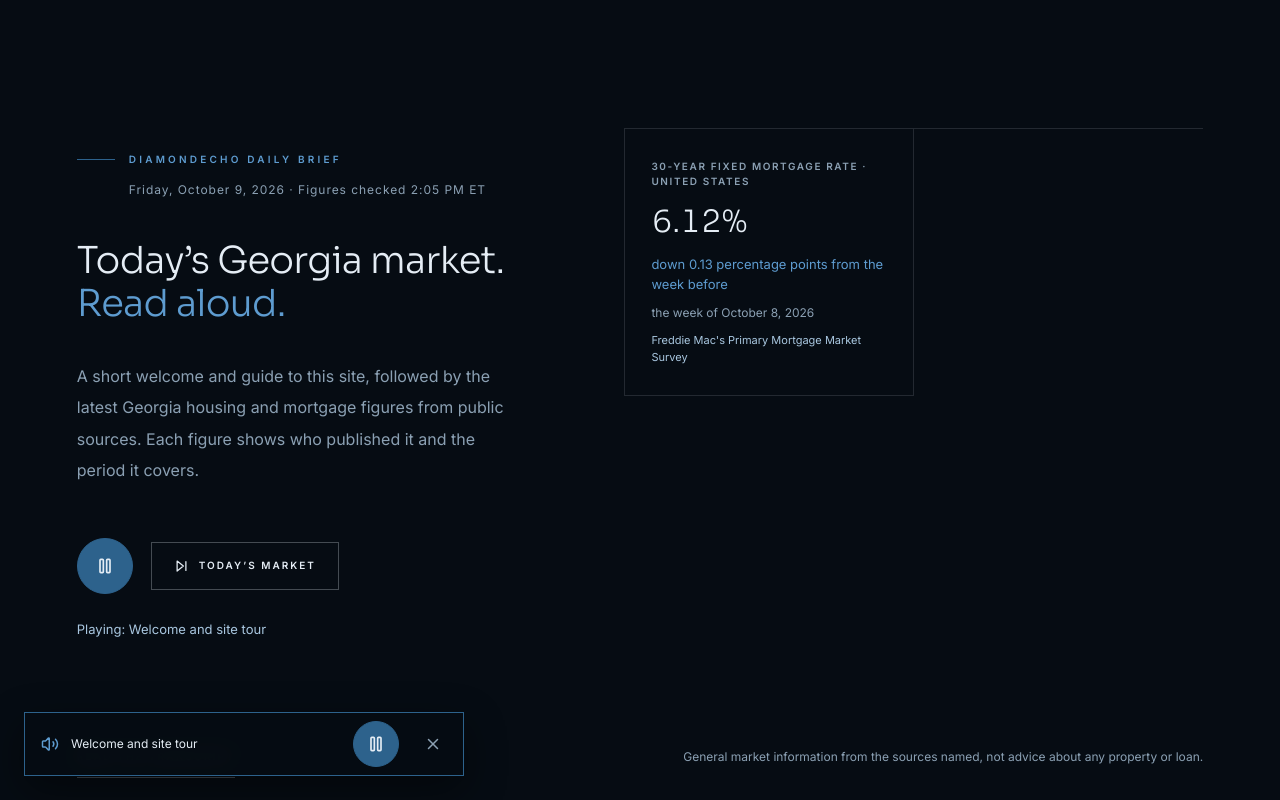
it: pause stops the sound and the brief does not start again in the same visit
Step 1. Click the 2nd button with class "mf-brief__play" → {"x": 376, "y": 744}, box [353, 721, 399, 767]
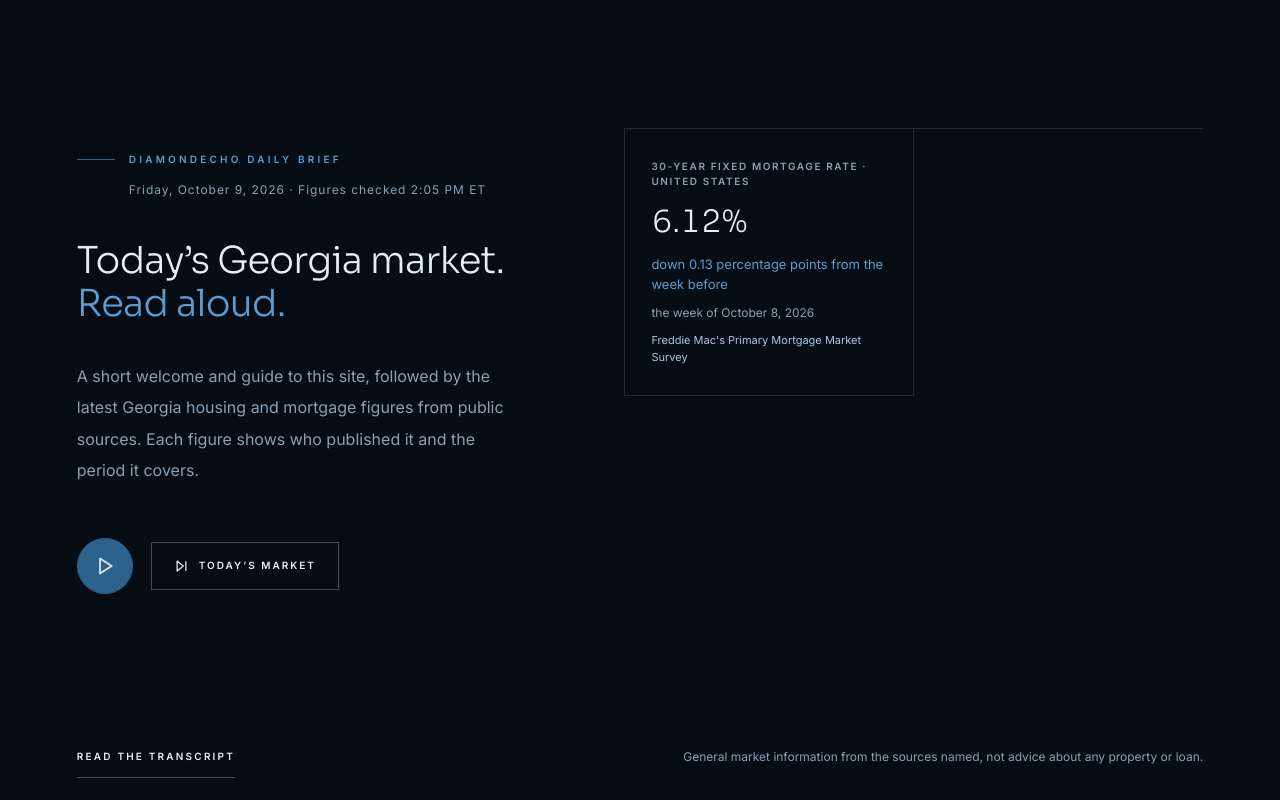
Expected: the button with class "mf-brief__play" is shown, [77, 538, 133, 594]
Expected: the element with class "mf-brief-bar" is gone
